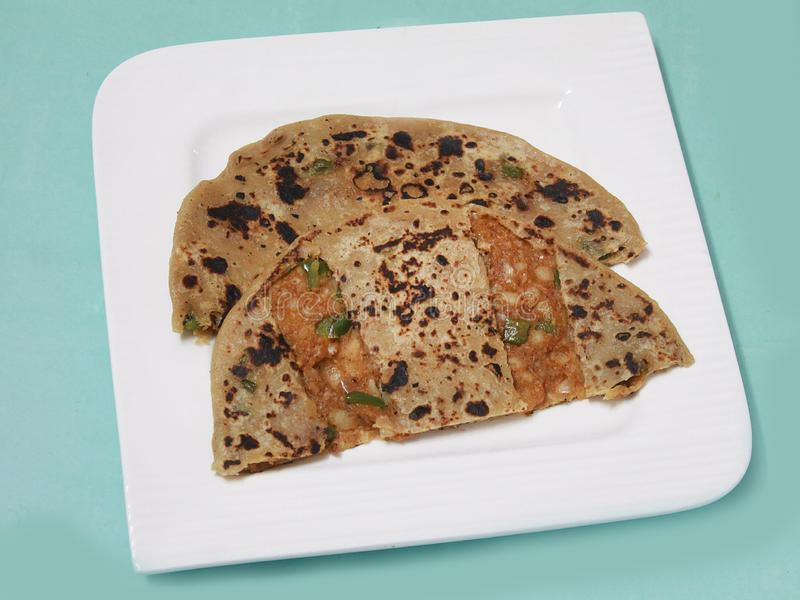aloo_paratha: (167, 110, 698, 491)
